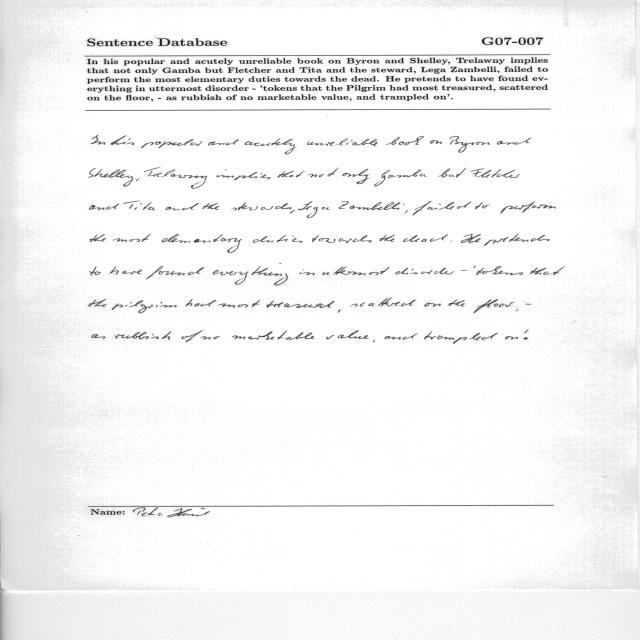word: (213, 264, 288, 286), (162, 234, 242, 253), (88, 168, 162, 187), (430, 136, 490, 153), (424, 331, 498, 344), (375, 170, 427, 187), (112, 301, 177, 314), (245, 139, 296, 155), (413, 201, 471, 215), (484, 234, 550, 246), (146, 266, 204, 279), (232, 331, 315, 340), (352, 136, 424, 146), (500, 202, 556, 214), (339, 201, 404, 210), (350, 298, 415, 307), (474, 299, 515, 313), (231, 202, 292, 211), (298, 201, 330, 218), (267, 300, 335, 308), (171, 174, 207, 189), (217, 170, 270, 180), (323, 267, 389, 275), (115, 331, 172, 340), (312, 235, 372, 243), (142, 139, 194, 148), (471, 169, 520, 178), (476, 266, 523, 275), (396, 268, 454, 275), (342, 169, 369, 184), (91, 135, 131, 145), (253, 235, 302, 243), (326, 331, 369, 340), (307, 138, 353, 146), (218, 300, 260, 308), (403, 235, 448, 242), (308, 168, 339, 178), (113, 234, 151, 242), (123, 201, 155, 210), (439, 168, 467, 178), (530, 267, 565, 275), (109, 267, 142, 275), (182, 330, 203, 342), (497, 138, 531, 145), (165, 203, 199, 210), (506, 330, 529, 340), (385, 333, 417, 340), (185, 299, 216, 306), (277, 171, 304, 178), (208, 140, 239, 146), (90, 204, 120, 210), (461, 234, 481, 243), (89, 299, 106, 307), (448, 299, 465, 307), (90, 234, 106, 242), (203, 203, 220, 210), (161, 170, 175, 178), (90, 266, 101, 276), (475, 202, 490, 209), (380, 235, 395, 242), (300, 270, 315, 276), (201, 336, 221, 340), (424, 303, 441, 307), (92, 334, 105, 339), (190, 141, 202, 146), (290, 210, 295, 213), (127, 143, 134, 145), (405, 210, 408, 214), (338, 309, 341, 313), (523, 337, 528, 339), (461, 270, 467, 271), (516, 309, 519, 311), (373, 340, 375, 343), (474, 266, 476, 268), (451, 241, 452, 241), (526, 304, 531, 304)
